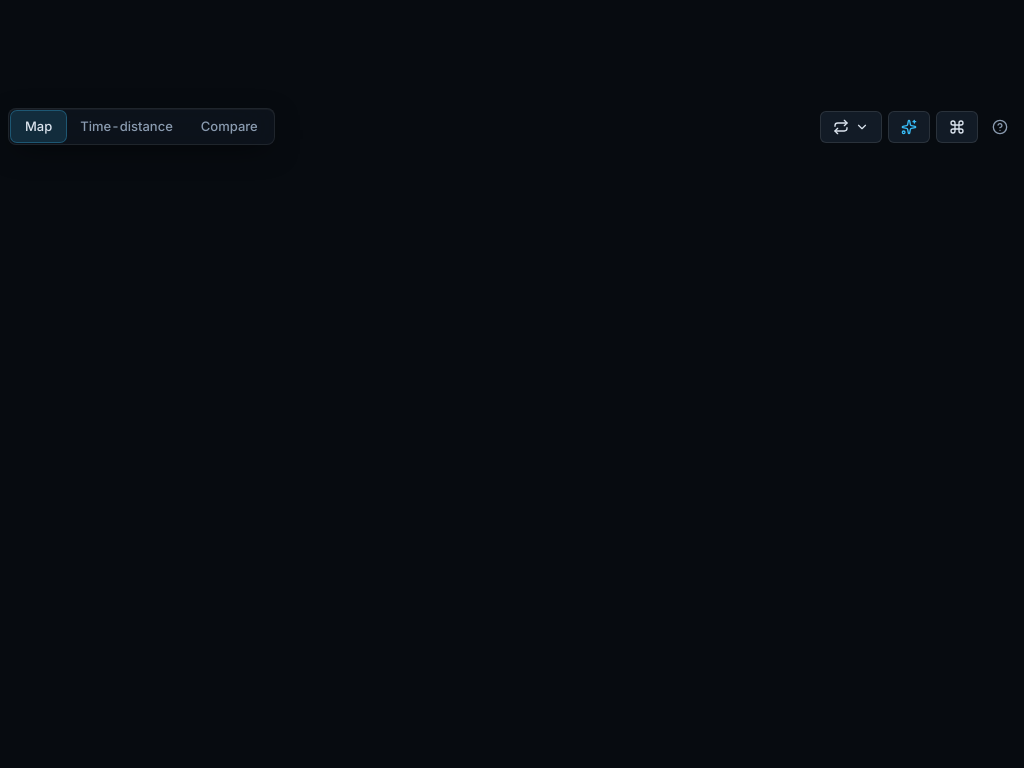
Test case: compare tab › shows the error and a retry button when the KPIs fail
What coordinates should you click on to do the following:
click the tab "Compare"
I would click on:
 (229, 126)
Its box is left=187, top=111, right=272, bottom=142.
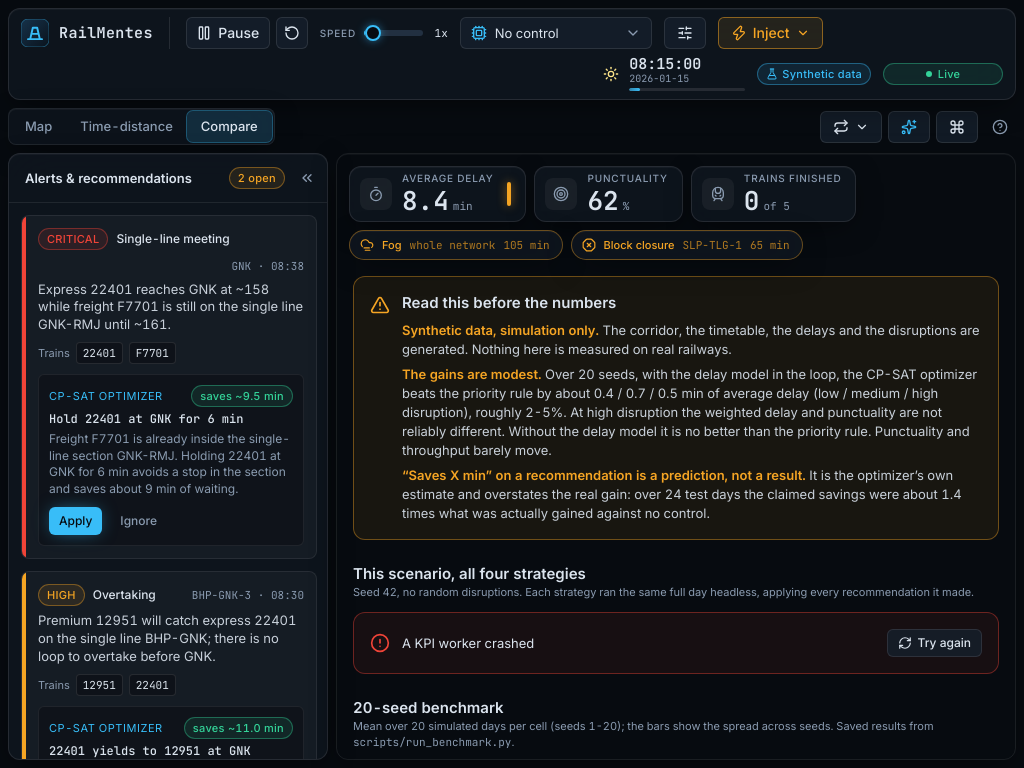
Expected: the text "A KPI worker crashed" is shown, left=402, top=634, right=534, bottom=650
Expected: the button "Try again" is shown, left=887, top=629, right=982, bottom=657
